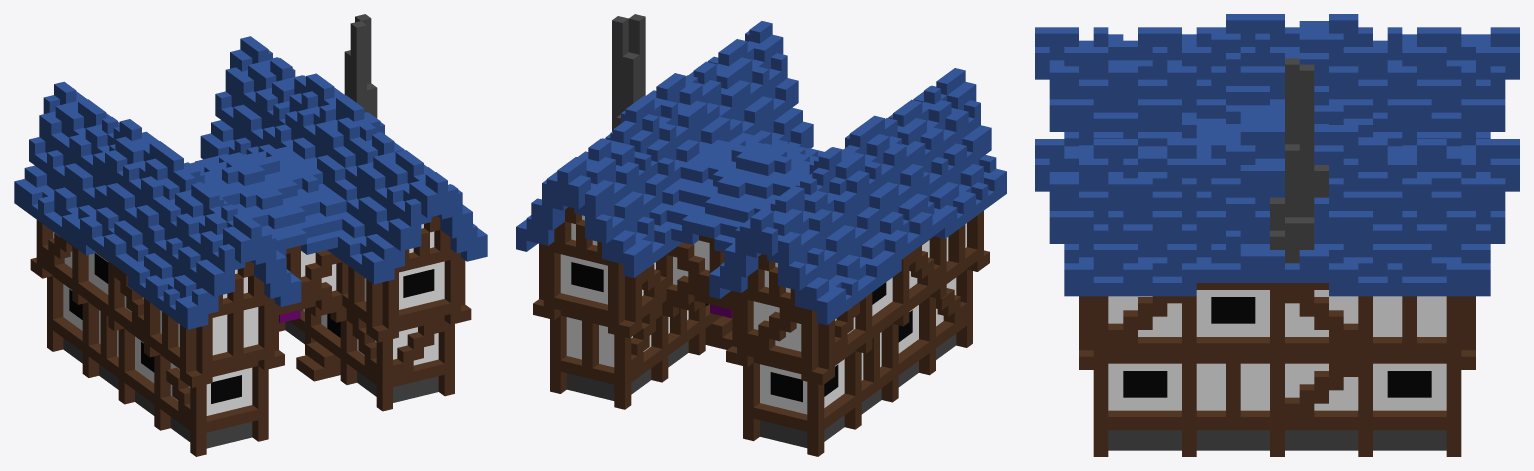
The model's file is house05.fbx.
3 views of the same model, side by side, from view 1: azimuth 30°, elevation 25°; view 2: azimuth 150°, elevation 25°; view 3: azimuth 270°, elevation 25° (orthographic). The views are drawn at different scales.
Parts seen in each view (by area): view 1: house1-5; view 2: house1-5; view 3: house1-5.
Part boxes in pixels (left/top/right/bottom): house1-5: left=14, top=14, right=487, bottom=456; house1-5: left=516, top=14, right=1006, bottom=456; house1-5: left=1035, top=14, right=1519, bottom=456.
Size of the model in its own units: 2900 by 2900 by 3300.
